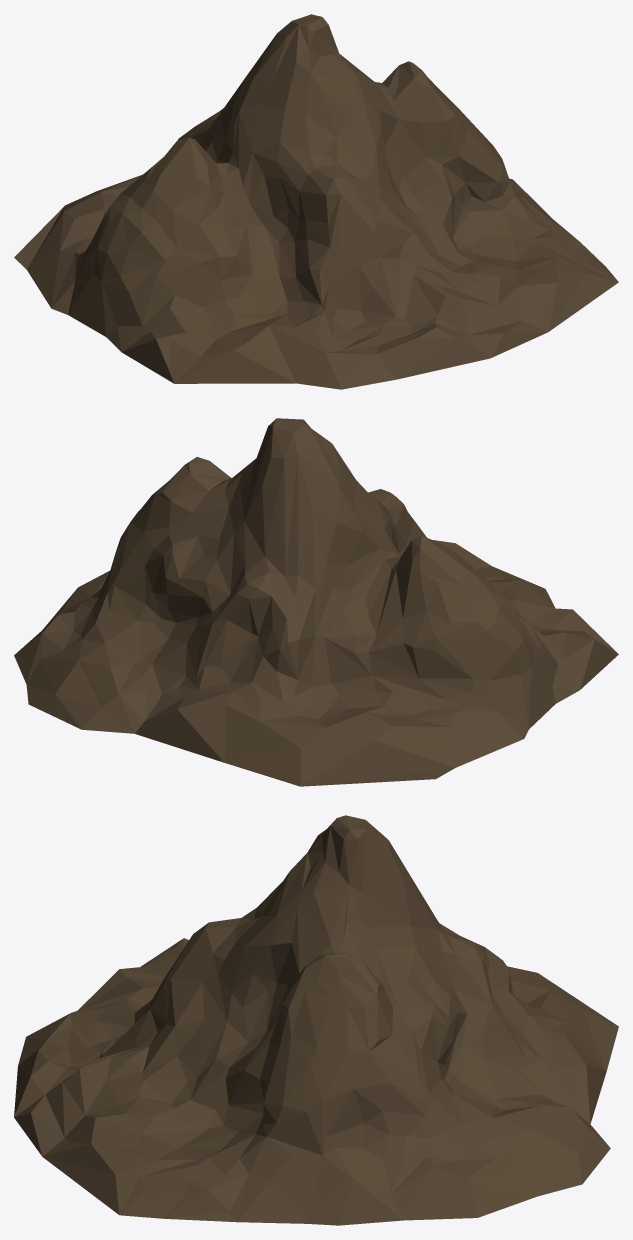
File: SM_Env_Hill_04.gltf
The picture shows the model from 3 angles, top to bottom: view 1: azimuth 30°, elevation 25°; view 2: azimuth 150°, elevation 25°; view 3: azimuth 270°, elevation 25°; orthographic projection. The views are drawn at different scales.
Visible parts, largest first — view 1: SM_Env_Hill_04; view 2: SM_Env_Hill_04; view 3: SM_Env_Hill_04.
Part boxes in pixels (<box>): SM_Env_Hill_04: <box>14,14,618,389</box>; SM_Env_Hill_04: <box>14,418,618,786</box>; SM_Env_Hill_04: <box>14,815,618,1225</box>.
Size of the model in its own units: 25.64 by 12.48 by 24.81.
Materials: 1 (1 with a texture image).
